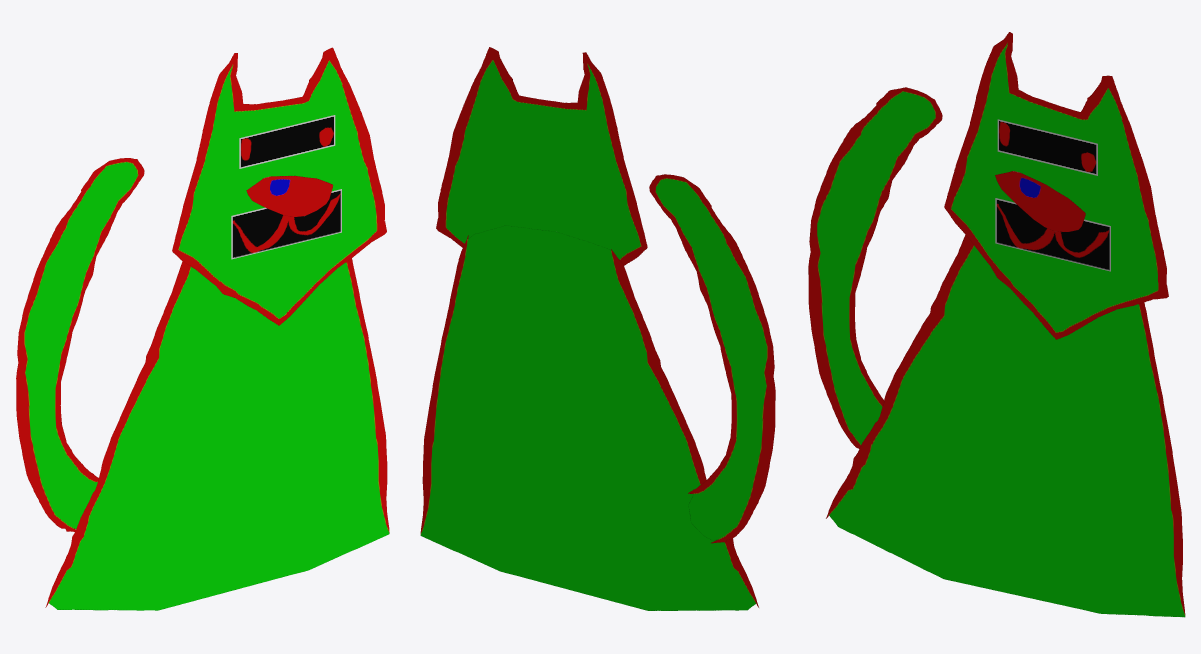
The model's file is cat0.FBX.
The picture shows the model from 3 angles, left to right: view 1: azimuth 30°, elevation 25°; view 2: azimuth 150°, elevation 25°; view 3: azimuth 330°, elevation 25°; orthographic projection. The views are drawn at different scales.
Visible parts, largest first — view 1: body, head, tail, mouth, eyes, nose; view 2: body, head, tail; view 3: body, head, tail, mouth, eyes, nose.
Part boxes in pixels (left/top/right/bottom): body: left=45, top=258, right=389, bottom=610; head: left=172, top=47, right=386, bottom=325; tail: left=16, top=158, right=144, bottom=531; mouth: left=231, top=189, right=341, bottom=259; eyes: left=239, top=115, right=335, bottom=168; nose: left=246, top=175, right=332, bottom=217; body: left=420, top=225, right=758, bottom=610; head: left=436, top=47, right=647, bottom=265; tail: left=649, top=174, right=775, bottom=543; body: left=826, top=235, right=1185, bottom=617; head: left=944, top=32, right=1168, bottom=339; tail: left=808, top=87, right=942, bottom=448; mouth: left=995, top=198, right=1110, bottom=271; eyes: left=997, top=119, right=1097, bottom=175; nose: left=995, top=171, right=1085, bottom=231.
Bounding box in the file's own units: 11.29 × 15.96 × 1.36.
Materials: 6 (6 with a texture image).
